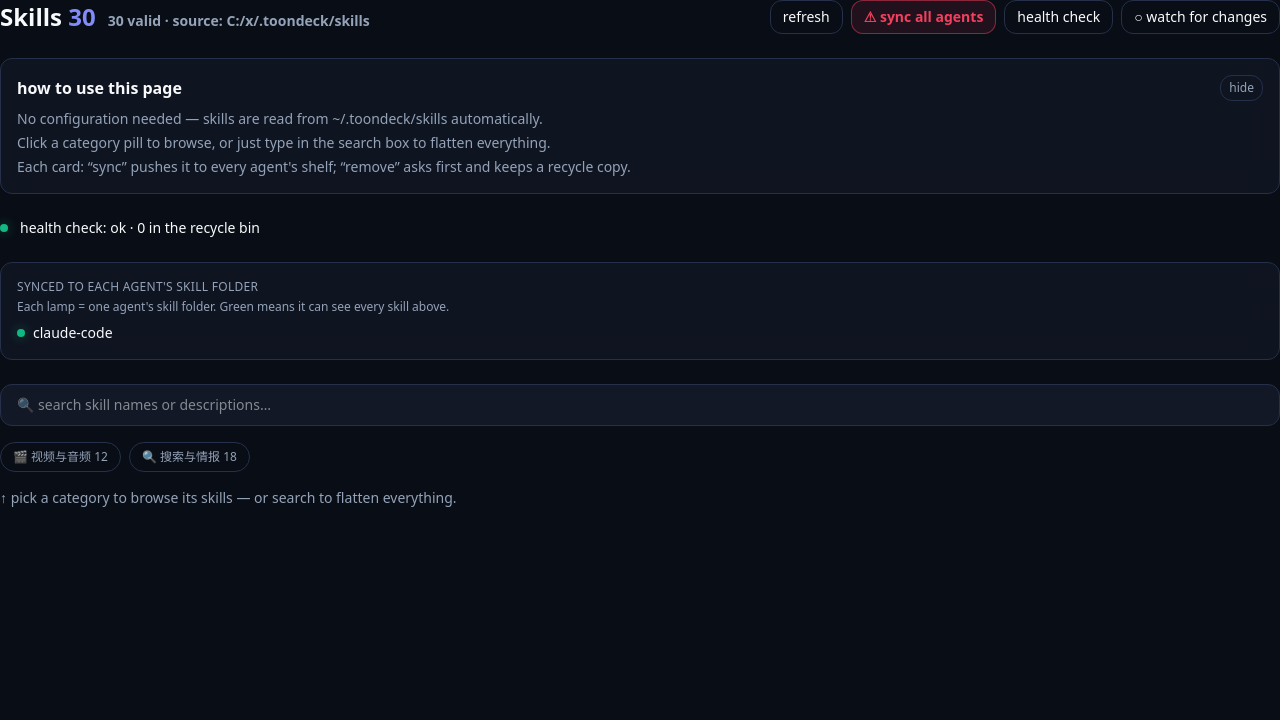
R50: collapsed categories + no naked regex › pill expands its category; second click collapses again
Click the button with test id "category-pill-🎬 视频与音频" at (60, 457), box [0, 442, 121, 472]
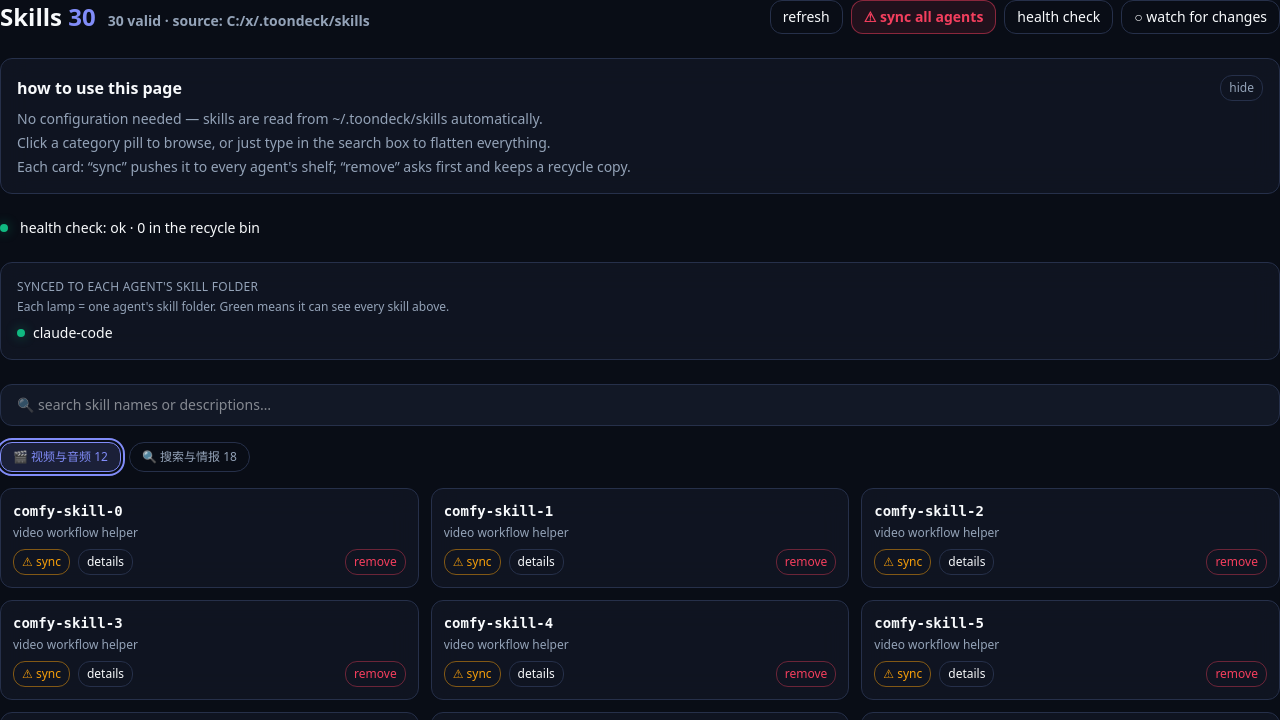
Expected: the text with test id "pick-category" is gone
Click the button with test id "category-pill-🎬 视频与音频" at (60, 457), box [0, 442, 121, 472]
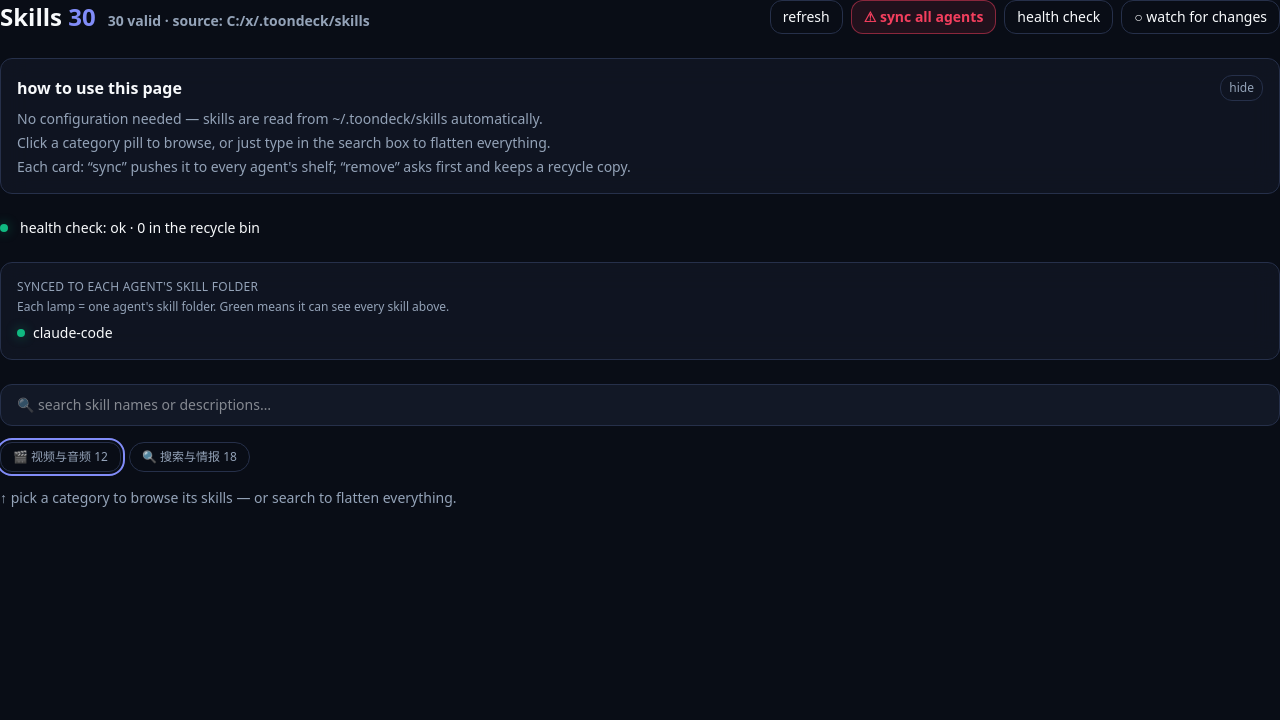
Expected: the text with test id "pick-category" is shown, [0, 488, 457, 507]
